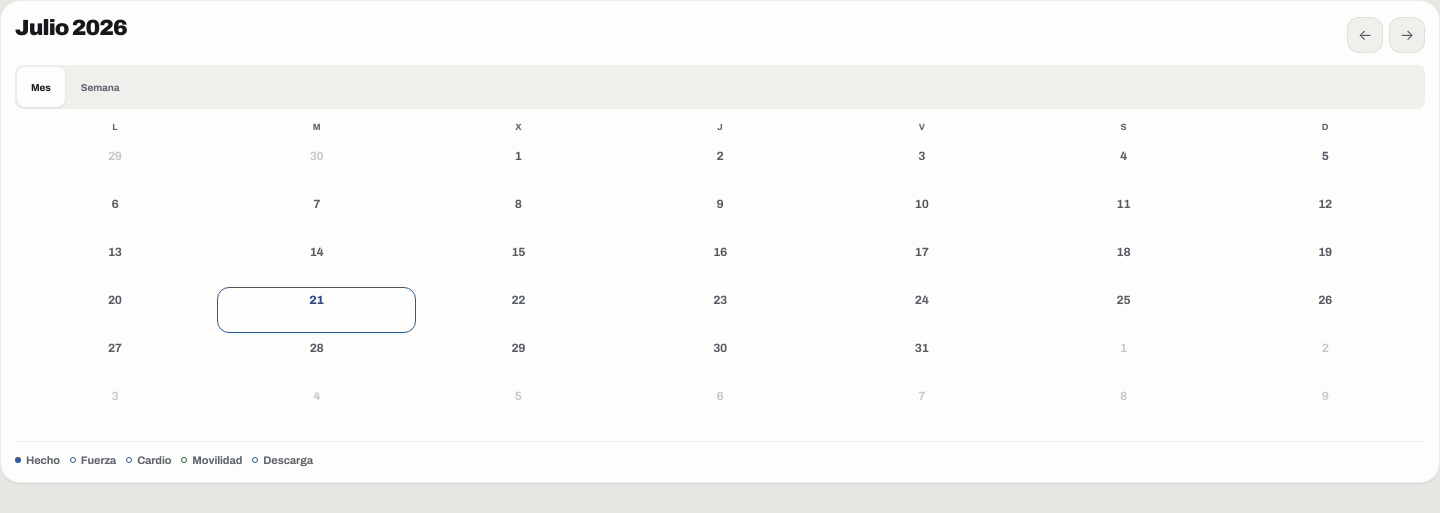
Calendar — vista mes › navega entre meses y vuelve a hoy
Click the button named "Mes siguiente": point(1407, 35) [1389,17,1425,53]
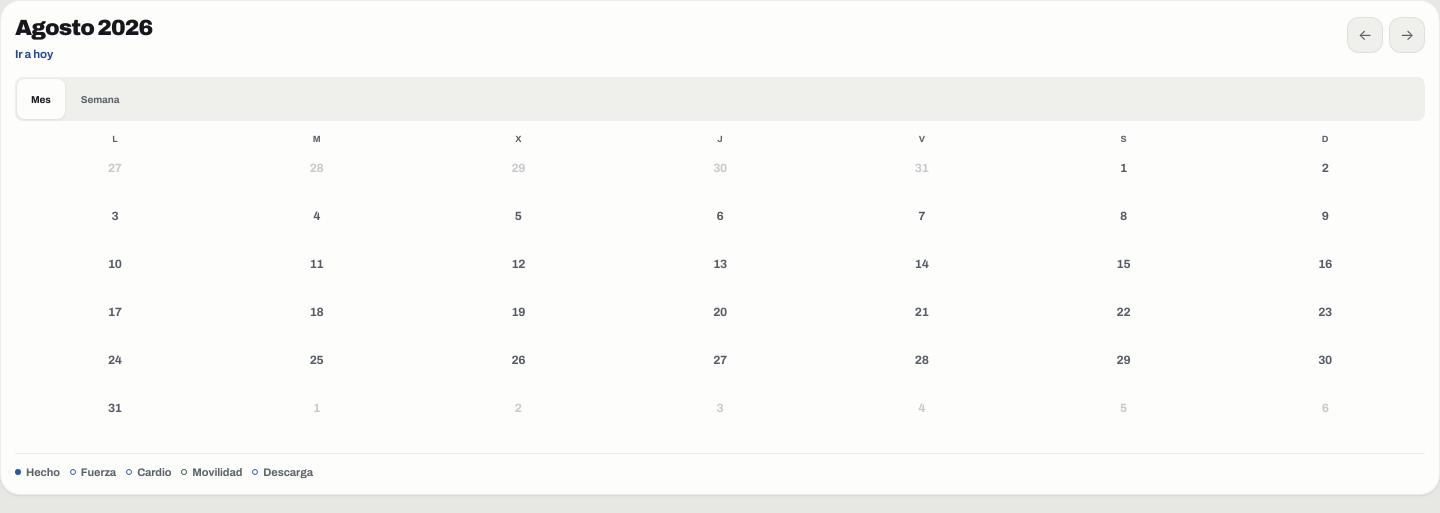
Expected: the text "Agosto 2026" is shown, [15,17,152,40]
Click the button named "Mes anterior": point(1365, 35) [1347,17,1383,53]
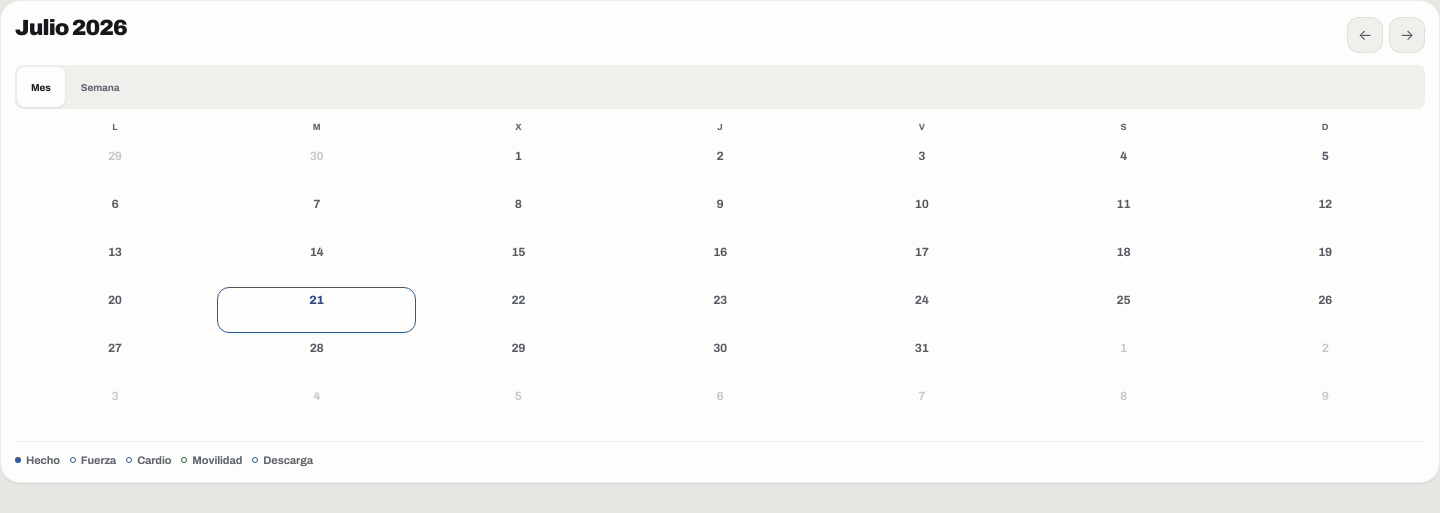
Expected: the text "Julio 2026" is shown, [15,17,127,40]
# Dos atrás y el atajo "Ir a hoy" debe reaparecer
Click the button named "Mes anterior": point(1365, 35) [1347,17,1383,53]
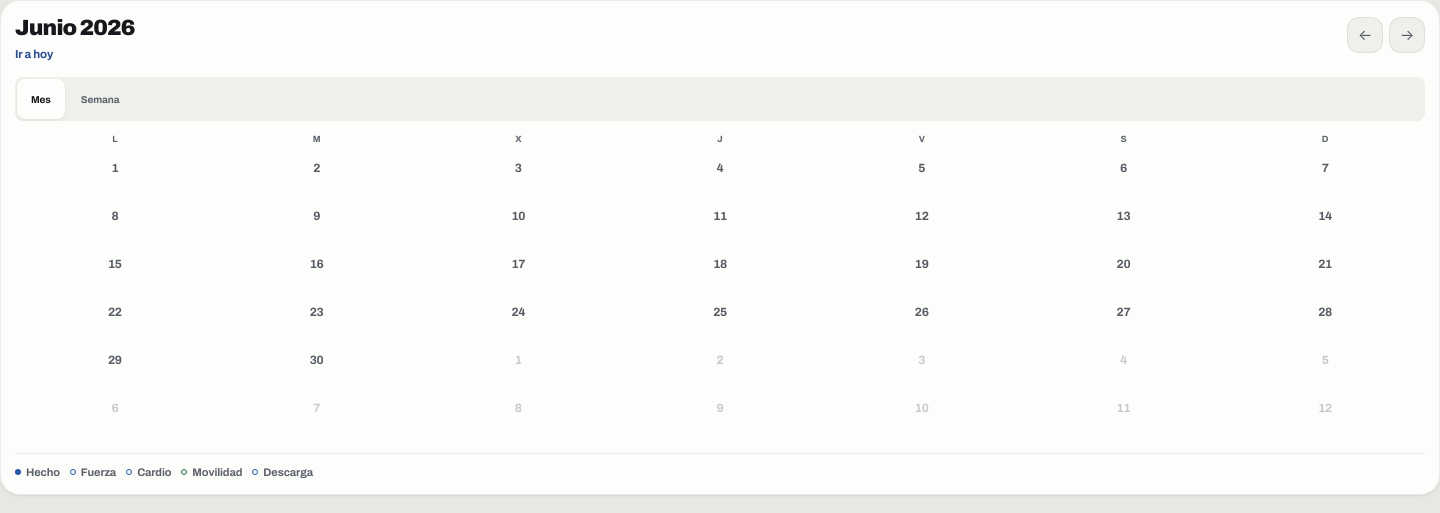
Click the button "Ir a hoy": point(34, 55) [15,46,53,63]
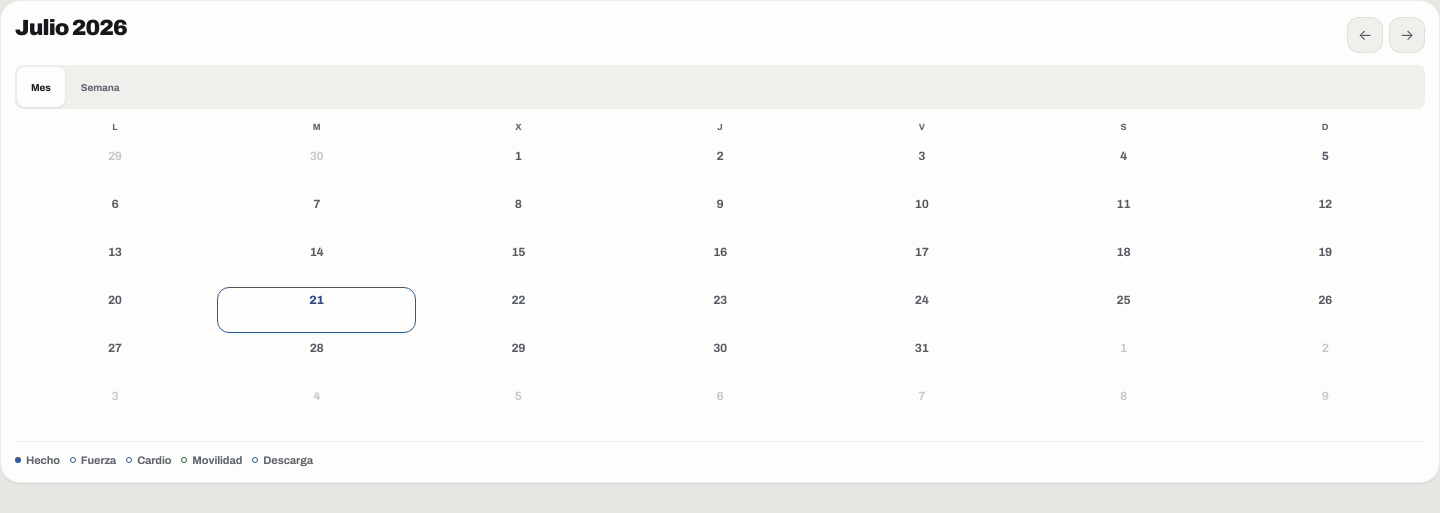
Expected: the text "Julio 2026" is shown, [15,17,127,40]
